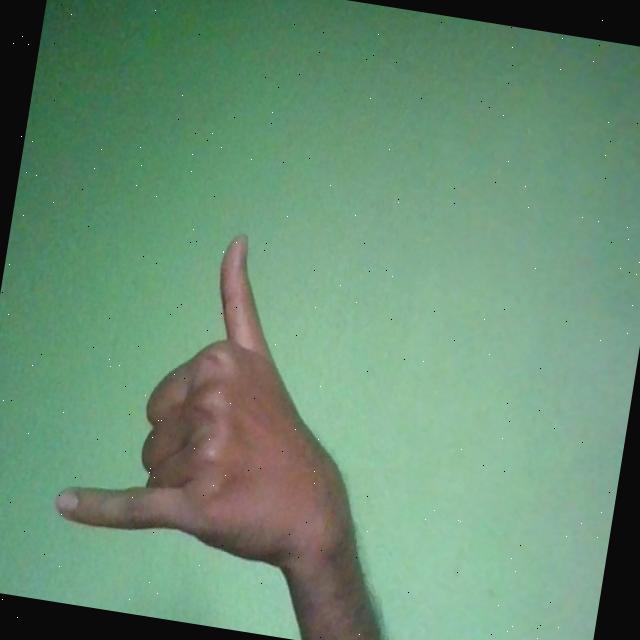Call Me: (49, 206, 400, 582)
